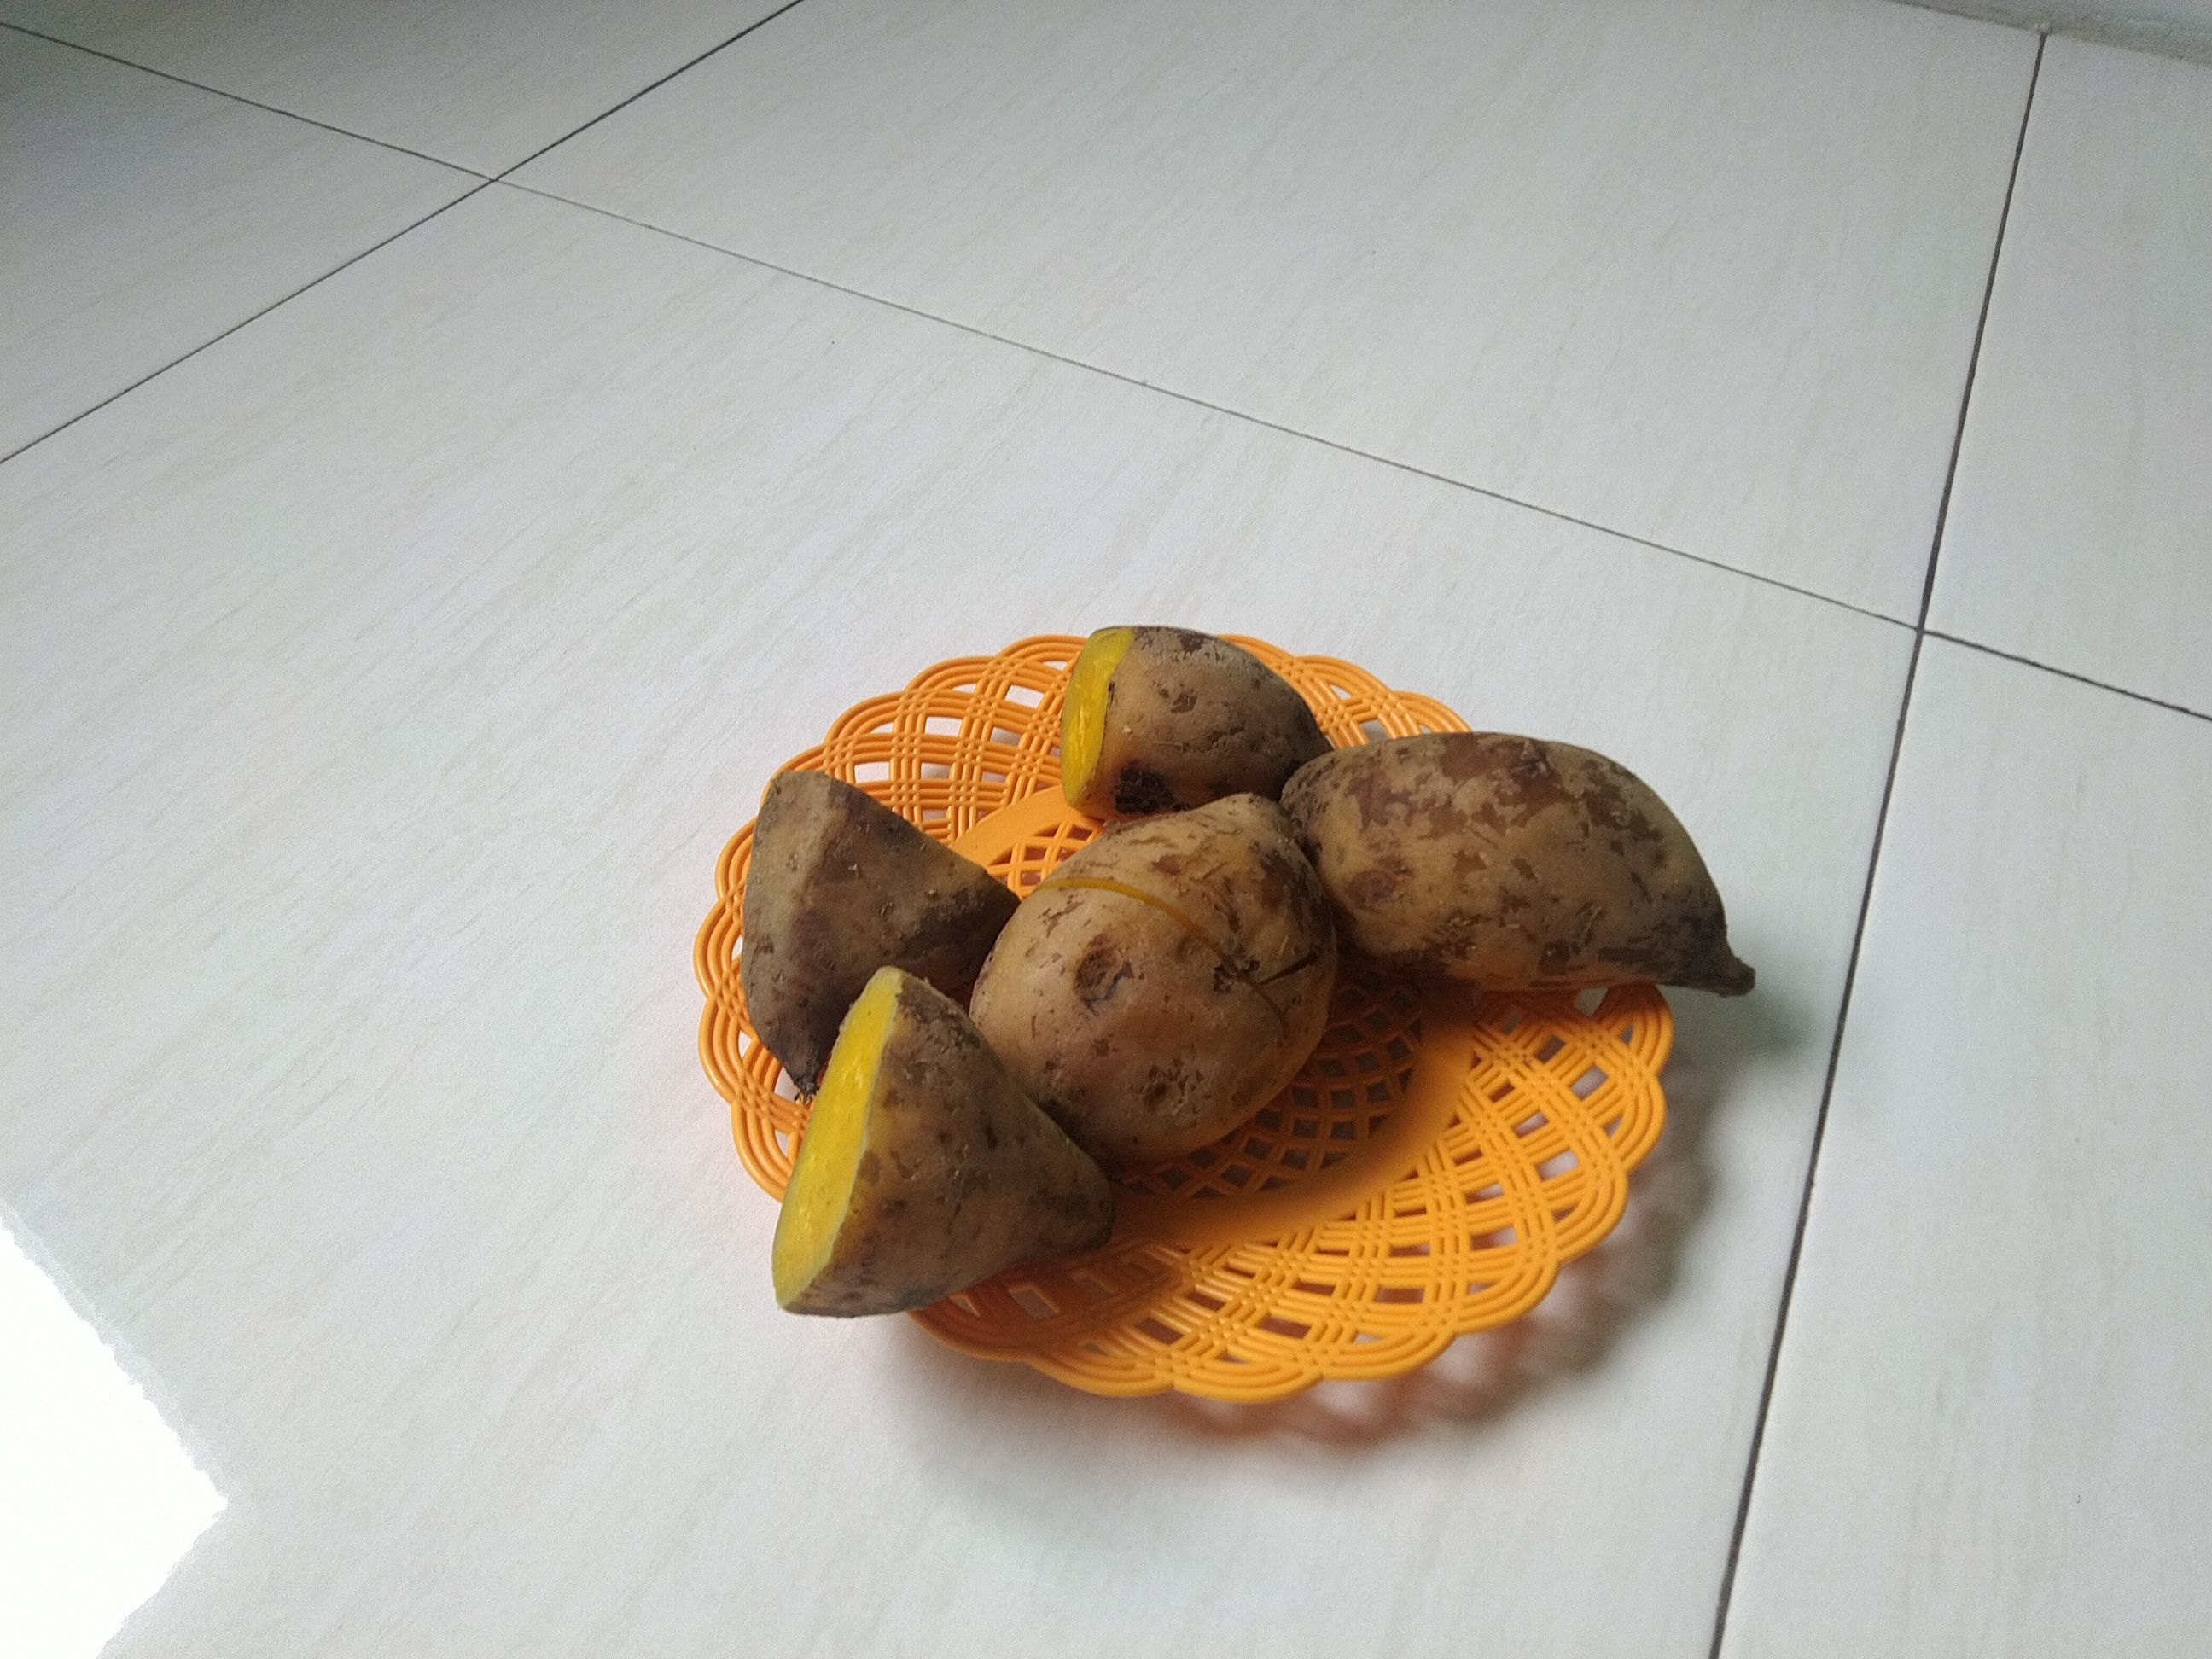ubi kuning: (1264, 728, 1794, 1026), (754, 955, 1139, 1331), (974, 775, 1315, 1176), (740, 760, 1022, 1093), (1055, 591, 1331, 843)
